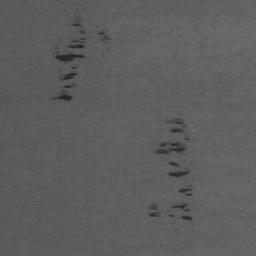Secondary rust skin: (53, 16, 87, 64), (50, 65, 78, 102), (155, 141, 186, 155), (172, 203, 193, 221), (170, 119, 186, 133), (168, 170, 190, 178), (97, 31, 111, 42), (149, 204, 160, 217), (179, 187, 192, 196), (169, 161, 179, 167)
